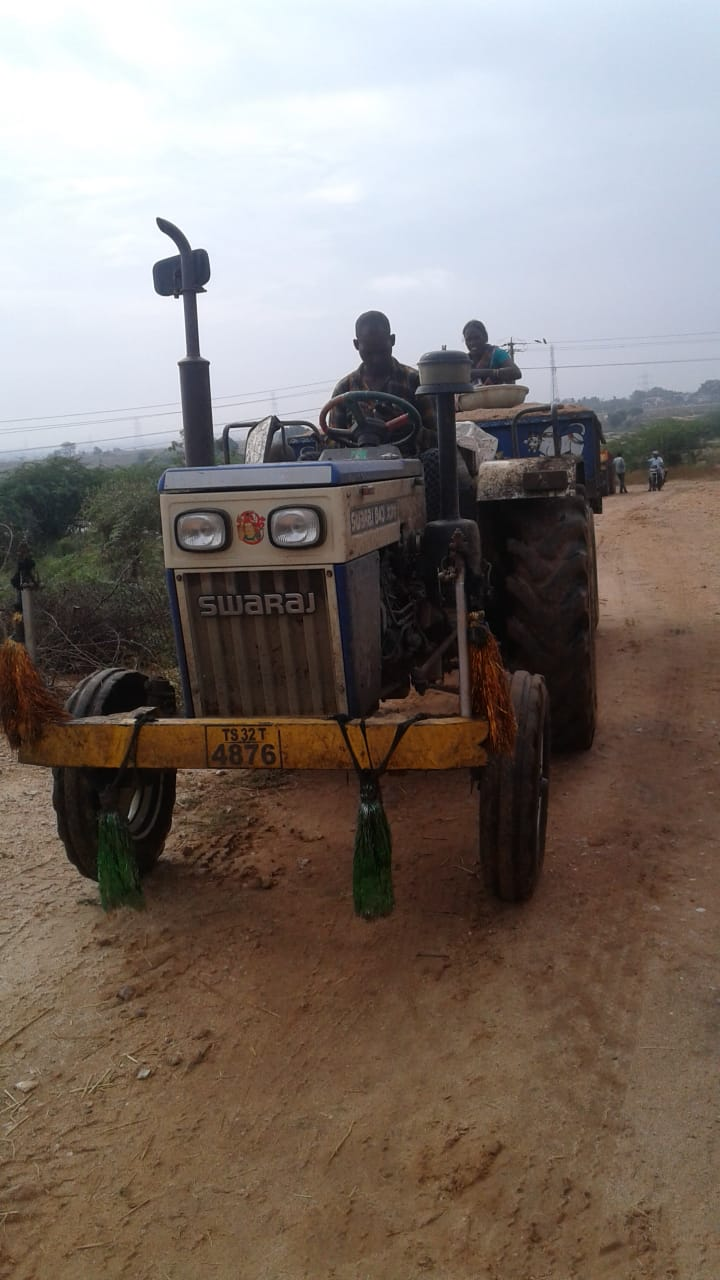num_plate: (201, 721, 292, 774)
